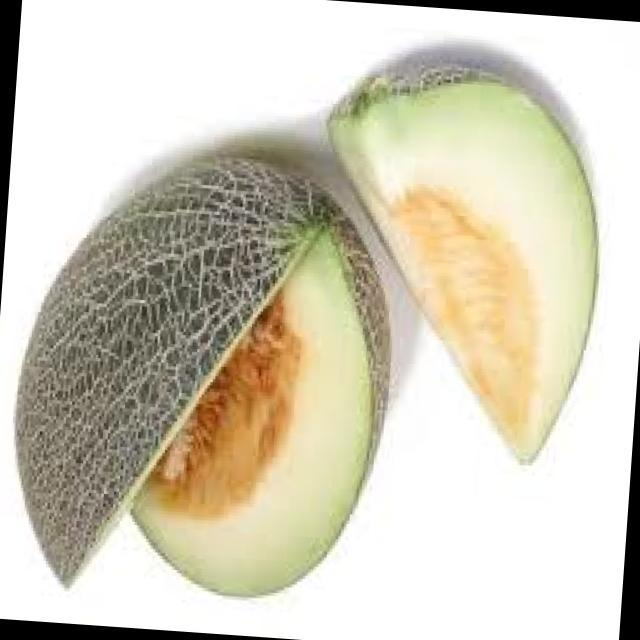Melon: (321, 40, 633, 506)
